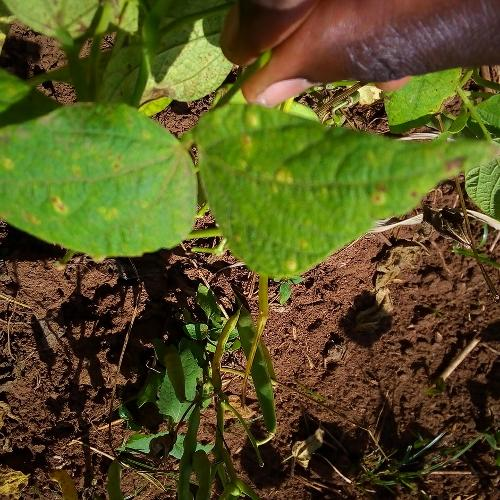hawar: (210, 103, 408, 208), (0, 123, 185, 234)
